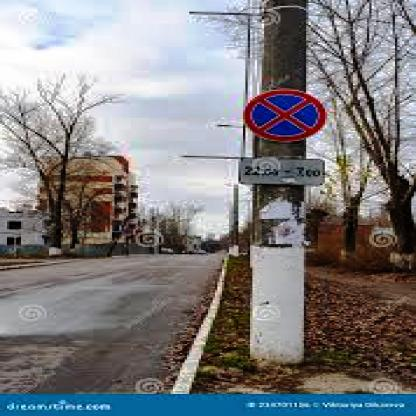No stopping: (234, 88, 335, 142)
